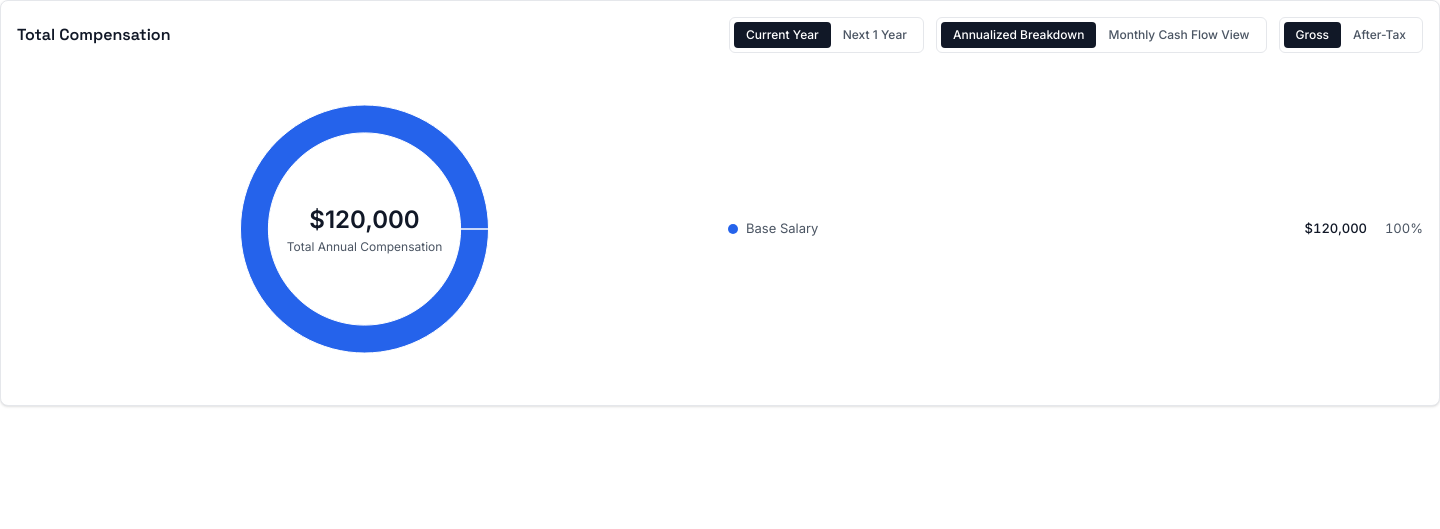
Test: CompHeroWidget monthly legend › shows the monthly figure the bars draw, not the annual total
The image size is (1440, 529).
Click the button "Monthly Cash Flow View": x=1179, y=35 [1096,22,1262,48]
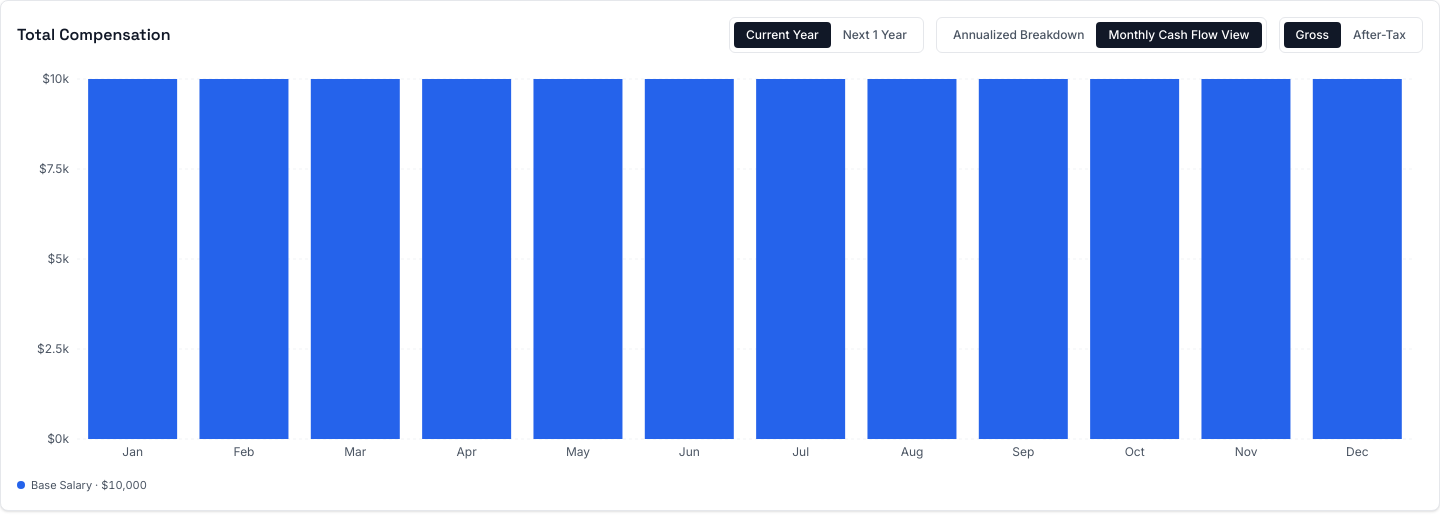
Expected: the text "Base Salary · $10,000" is shown, [31,477,147,494]
Expected: the list item "Base Salary $120,000 100%" is gone
